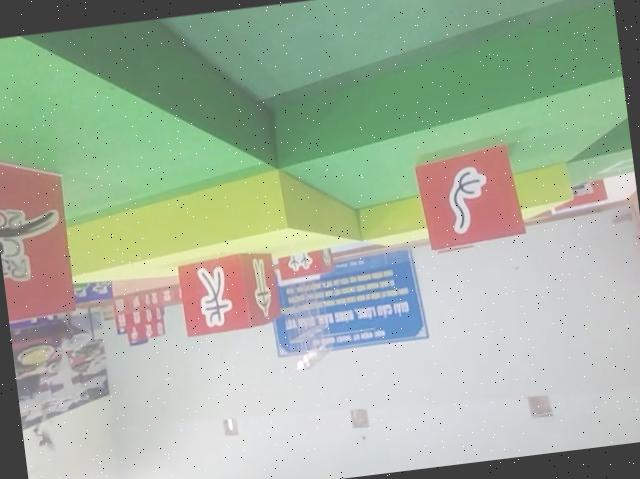R1: (0, 150, 78, 327)
R2 Fake: (167, 243, 286, 342)
R2 Real: (406, 141, 529, 257)
